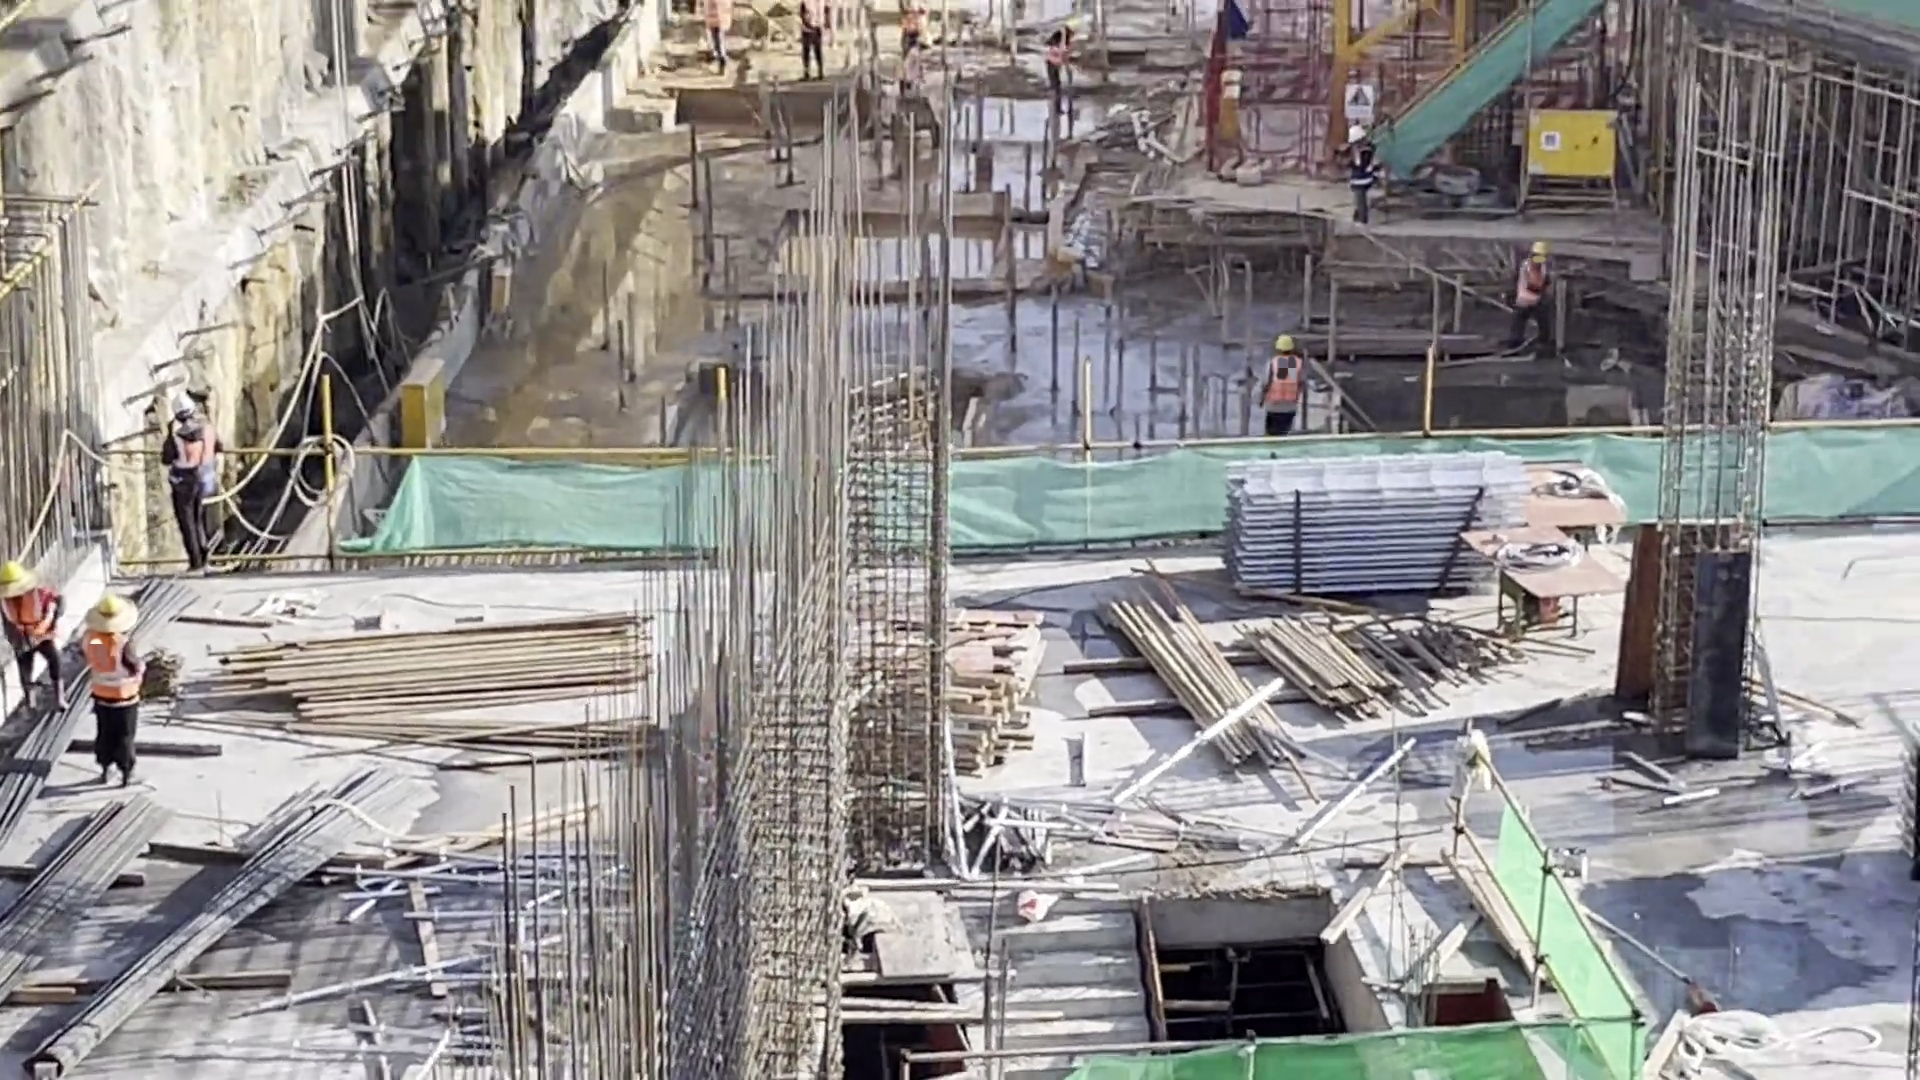helmet: (77, 598, 142, 634), (1, 561, 50, 594), (169, 394, 203, 422), (1270, 334, 1295, 353), (1346, 124, 1372, 144), (1528, 242, 1546, 259), (1065, 19, 1083, 33)
person: (80, 591, 164, 787), (159, 390, 230, 583), (1, 561, 67, 718), (1508, 232, 1563, 361), (1254, 331, 1318, 439), (1338, 123, 1389, 235), (1040, 18, 1086, 120), (788, 1, 836, 84), (698, 1, 738, 78), (893, 1, 932, 65)
vest: (5, 595, 58, 667), (88, 640, 138, 713), (174, 430, 217, 498), (1043, 30, 1077, 84), (1516, 272, 1547, 327), (1266, 371, 1298, 422), (1354, 156, 1378, 207), (701, 3, 735, 37), (900, 10, 938, 40), (803, 7, 832, 33)
